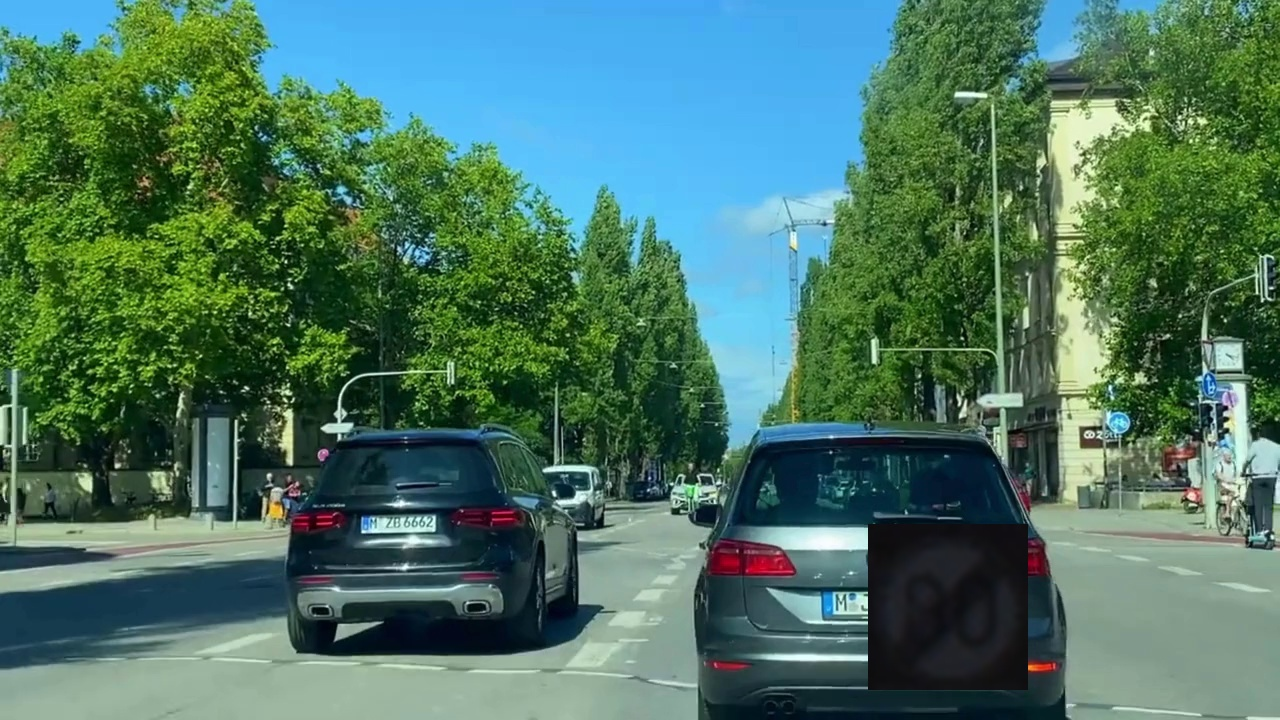End Speed 80: (868, 524, 1028, 690)
